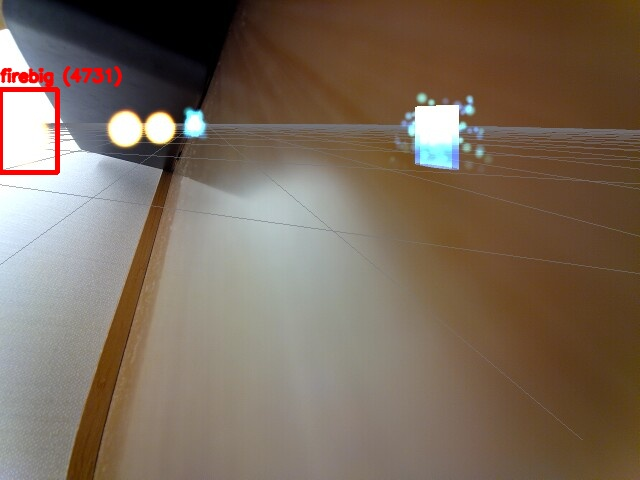firebig: (0, 89, 57, 172)
